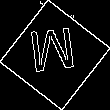M_S: (29, 27, 81, 83)
